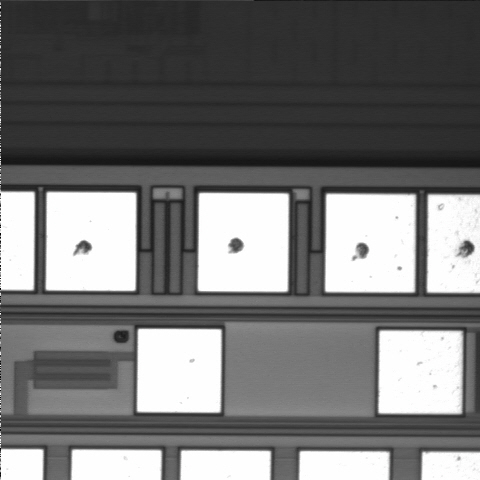pad: (198, 193, 289, 292), (46, 192, 136, 291), (325, 194, 415, 292), (137, 329, 221, 412), (379, 331, 462, 413)
